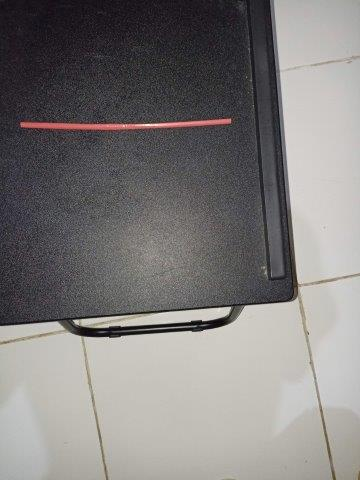sedotan: (21, 118, 231, 131)
